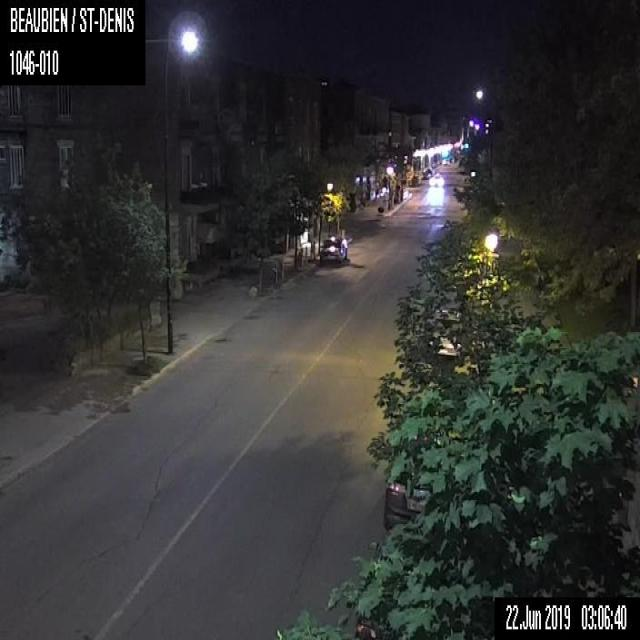vehicle: (384, 484, 417, 531), (318, 231, 349, 265)
